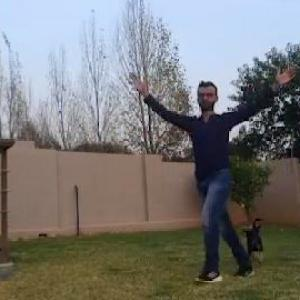takeoff: (133, 71, 290, 288)
